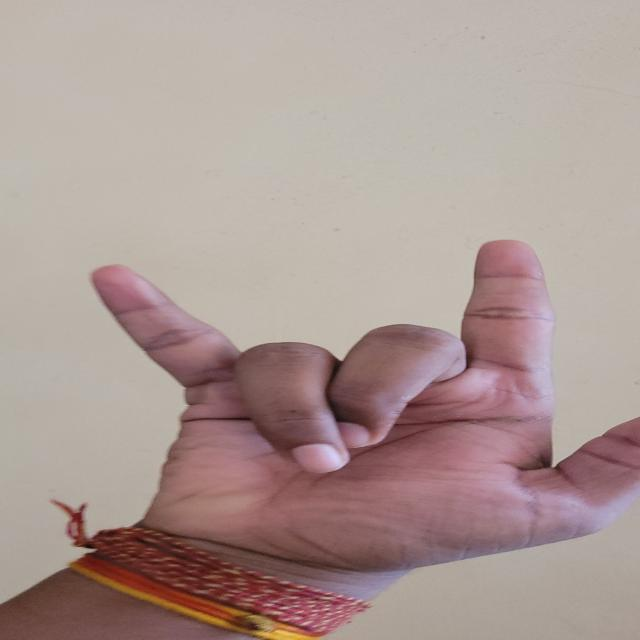i like you: (40, 204, 640, 640)
